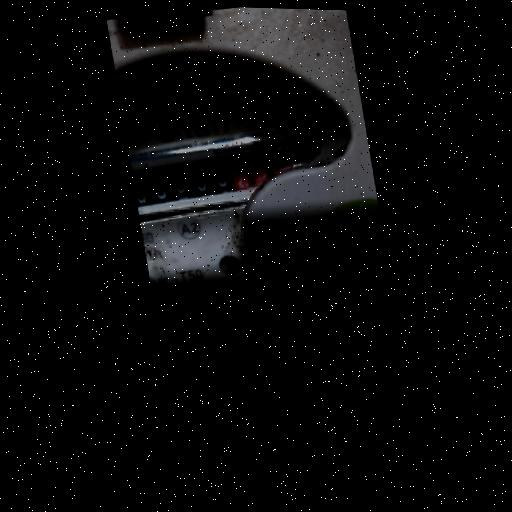0: (142, 166, 172, 206), (131, 170, 151, 207)
2: (226, 152, 254, 192)
3: (182, 158, 215, 201)
6: (162, 161, 193, 203)
9: (203, 154, 236, 197), (245, 148, 275, 188)
border_water_meter_number: (125, 123, 318, 229)
